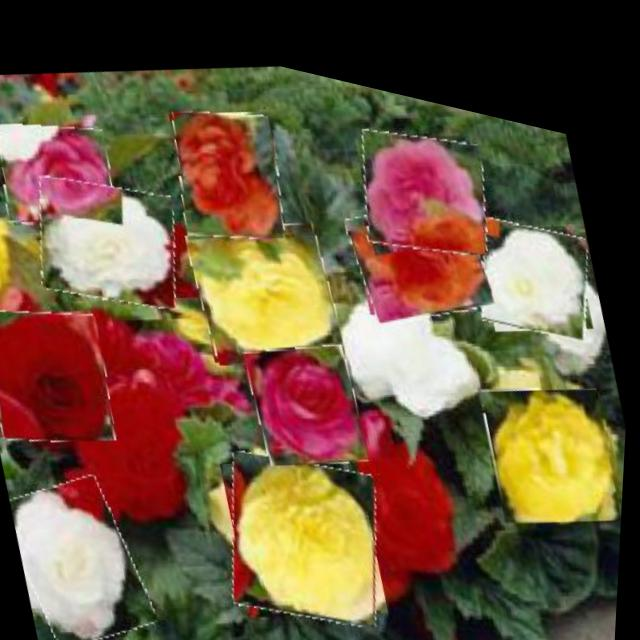Flower: (209, 407, 409, 640), (182, 184, 355, 380), (23, 144, 196, 330), (5, 450, 167, 640), (476, 335, 630, 522), (341, 153, 502, 327), (346, 84, 504, 260), (160, 78, 298, 250), (465, 171, 608, 335), (0, 283, 129, 463), (243, 309, 378, 472), (0, 98, 128, 248)
